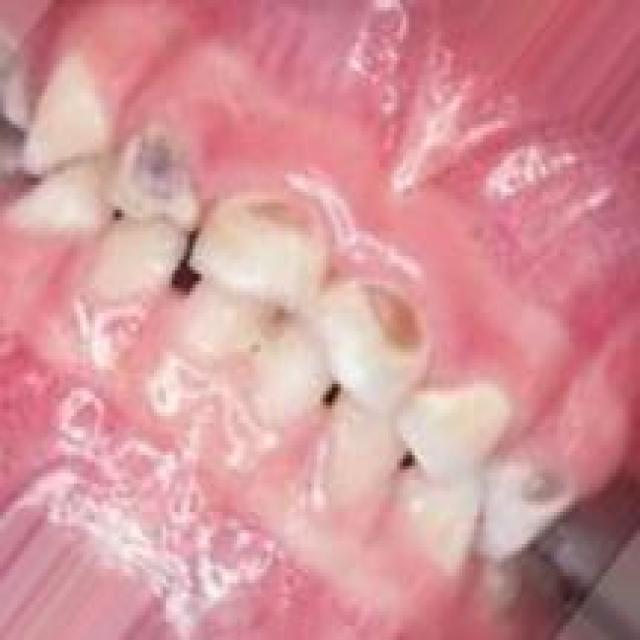caries: (343, 261, 440, 373), (100, 129, 200, 236), (235, 175, 331, 258), (510, 449, 576, 530)
